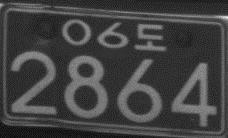0: (61, 17, 92, 47)
2: (10, 49, 57, 115)
4: (169, 62, 217, 127)
6: (115, 58, 163, 124), (96, 21, 129, 49)
8: (63, 54, 108, 119)
도: (134, 22, 168, 52)
